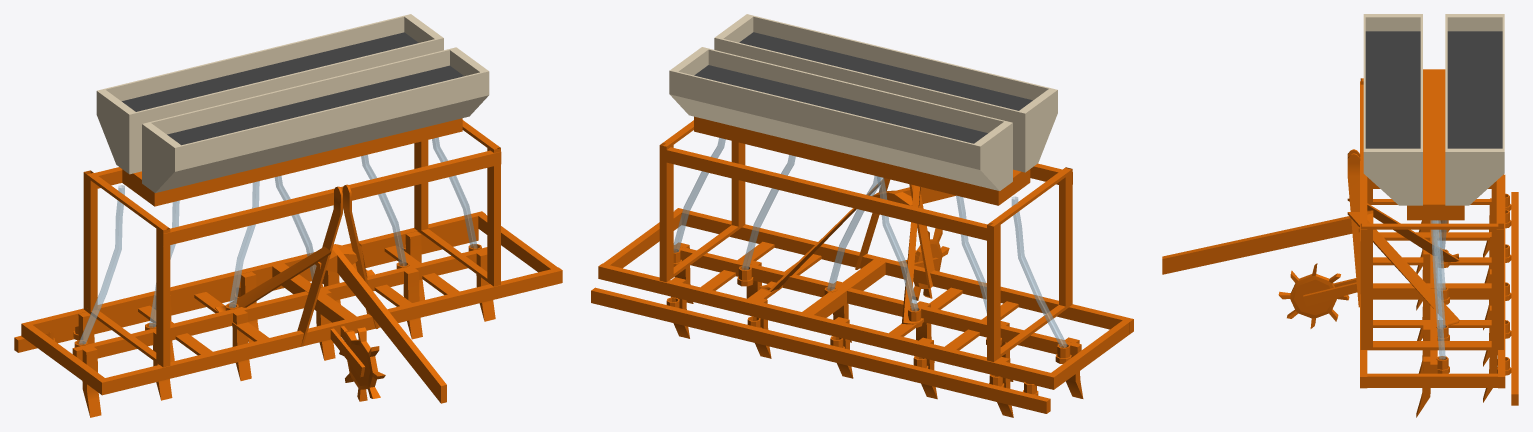
File: hoe.fbx
3 renders of one model, left to right at view 1: azimuth 30°, elevation 25°; view 2: azimuth 150°, elevation 25°; view 3: azimuth 270°, elevation 25°, orthographic. The views are drawn at different scales.
Visible parts, largest first — view 1: hoe; view 2: hoe; view 3: hoe.
Boxes of the visible parts, bbox=[...] form: hoe: bbox=[14, 14, 562, 417]; hoe: bbox=[591, 14, 1133, 417]; hoe: bbox=[1162, 14, 1518, 417].
Size of the model in its own units: 583 by 336 by 434.
